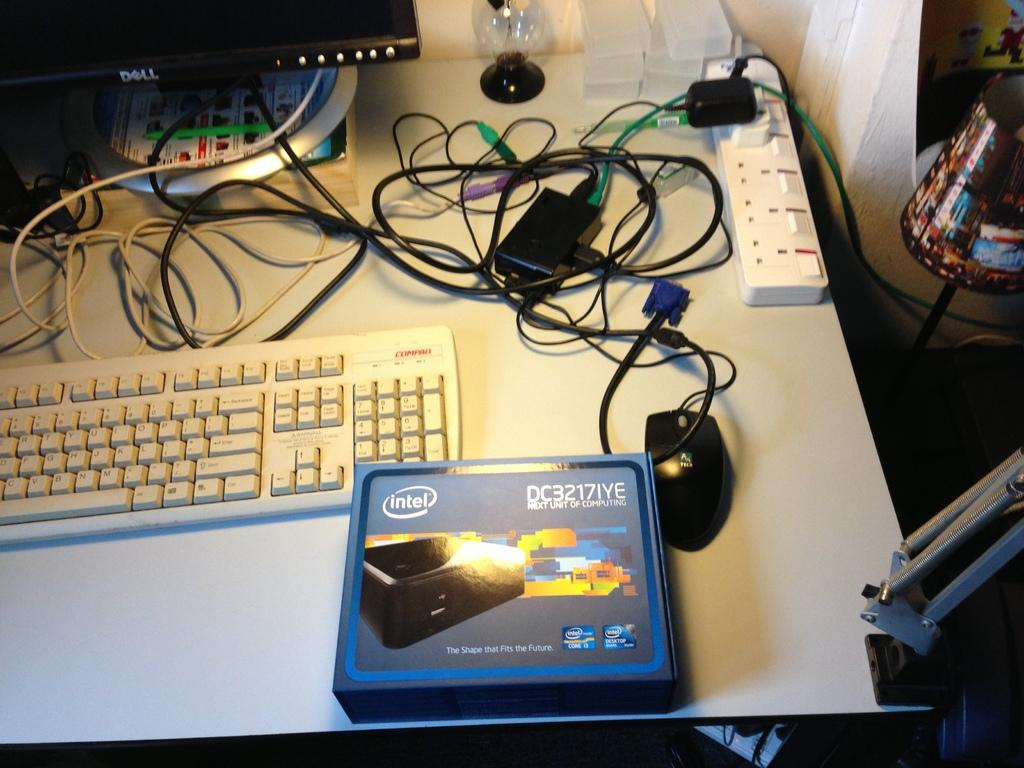Computer-mouse: (647, 405, 737, 554)
